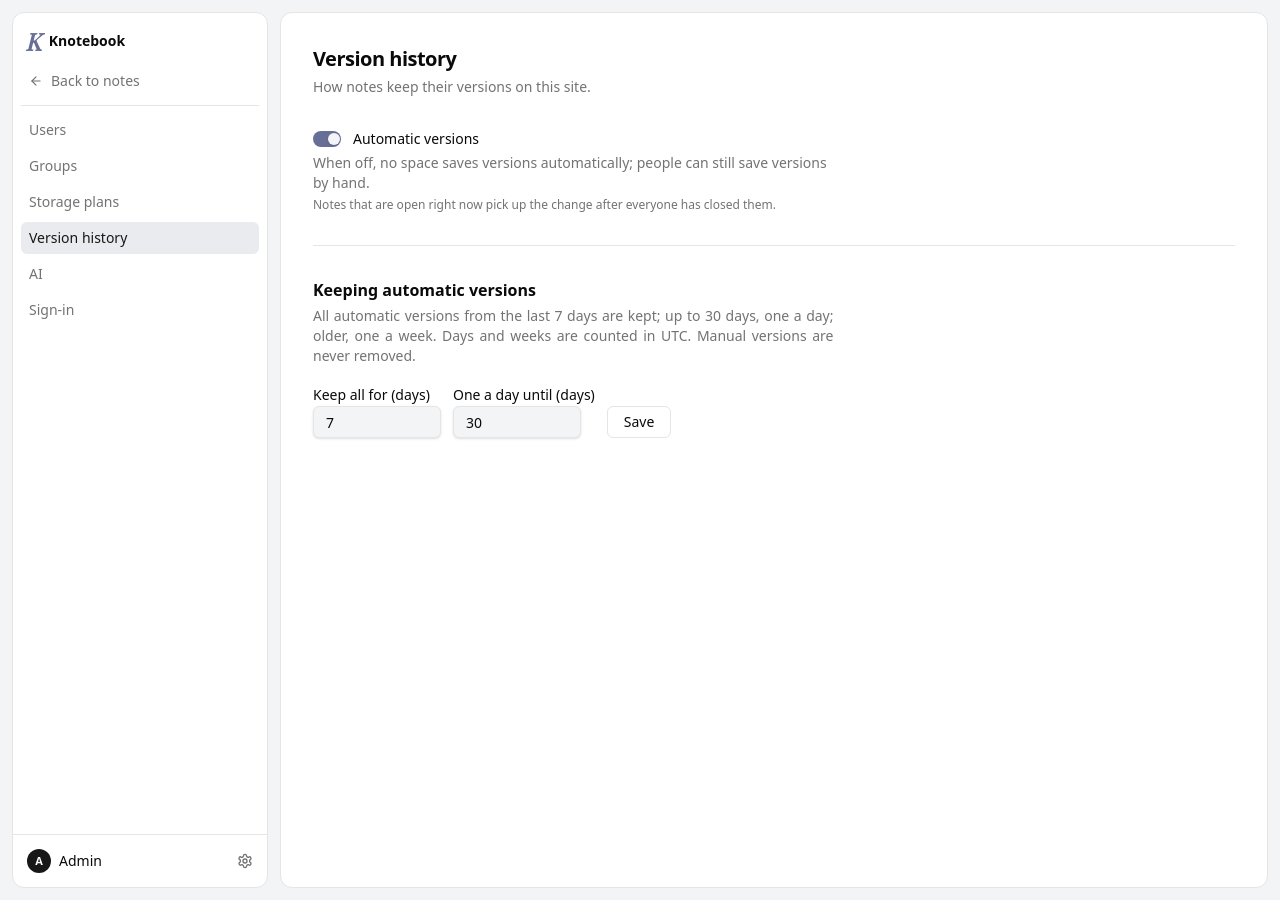
it: SettingsVersionsSection（/admin/versions，spec §6.7、§8.5） › 天數合法（F = D 也可）→ PATCH { keepAllDays, dailyUntilDays }、toast
Replace the text in the field labelled "Keep all for (days)" with "14": (377, 422) [313,406,441,438]
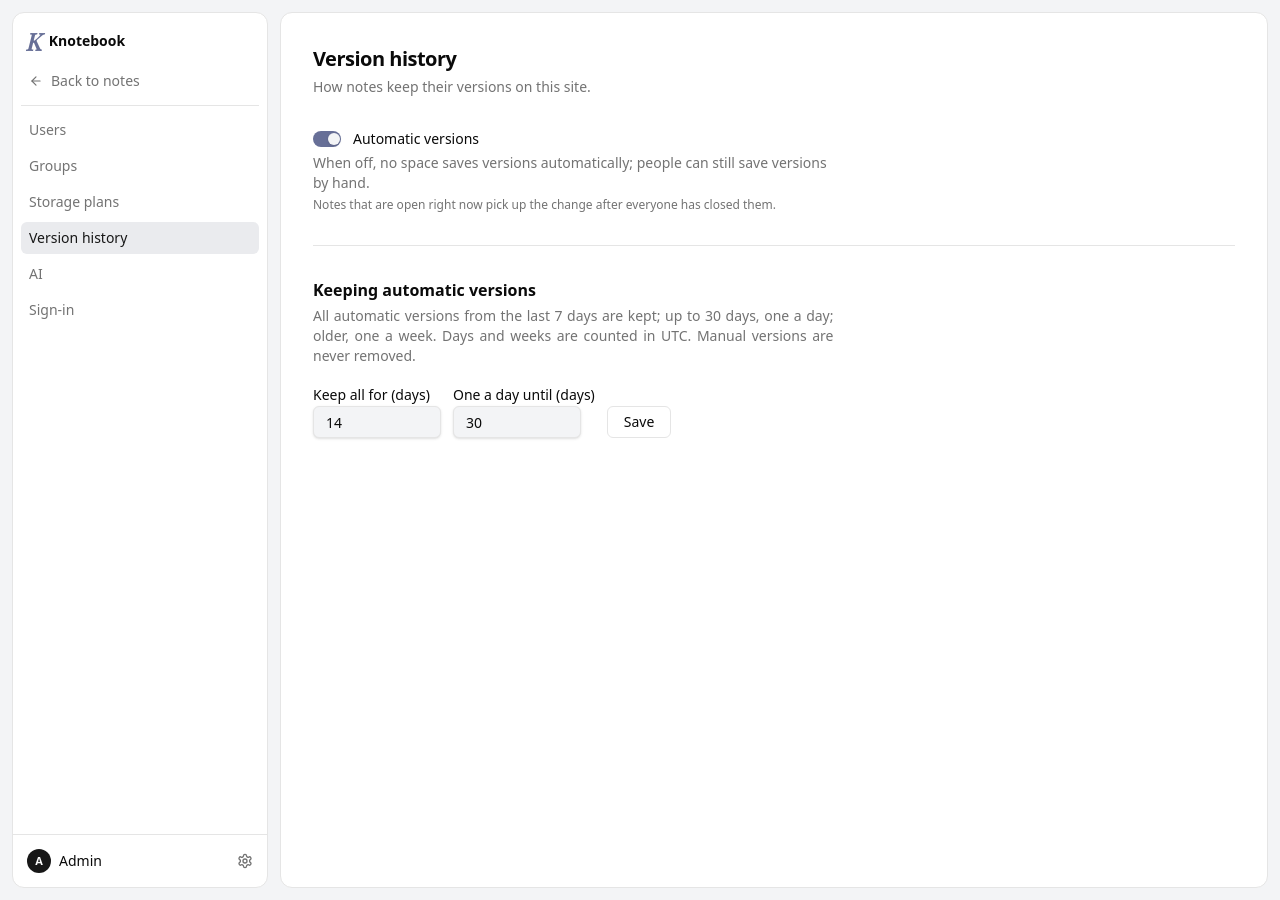
Replace the text in the field labelled "One a day until (days)" with "14": (517, 422) [453,406,581,438]
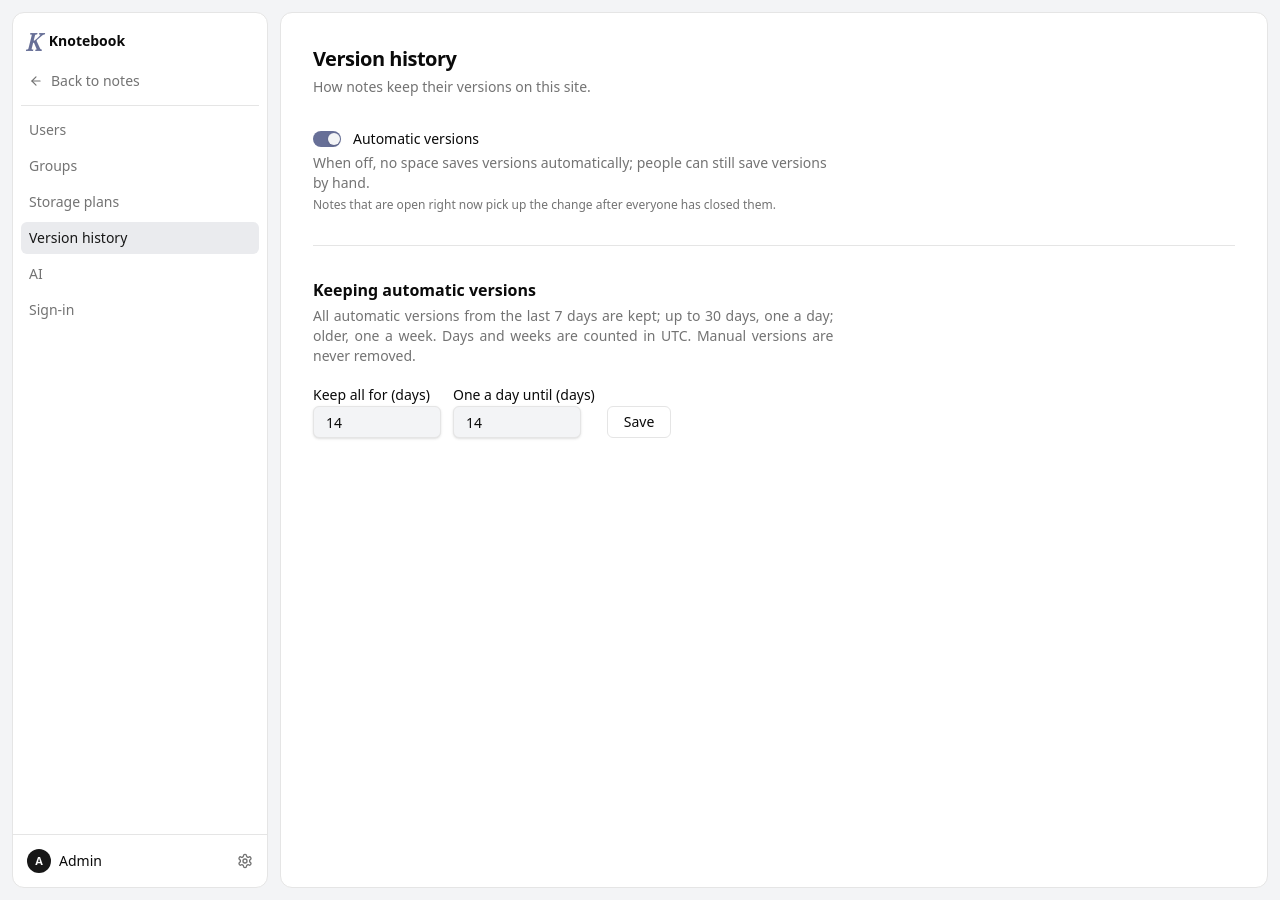
Click the button "Save": (639, 422) [607,406,671,438]
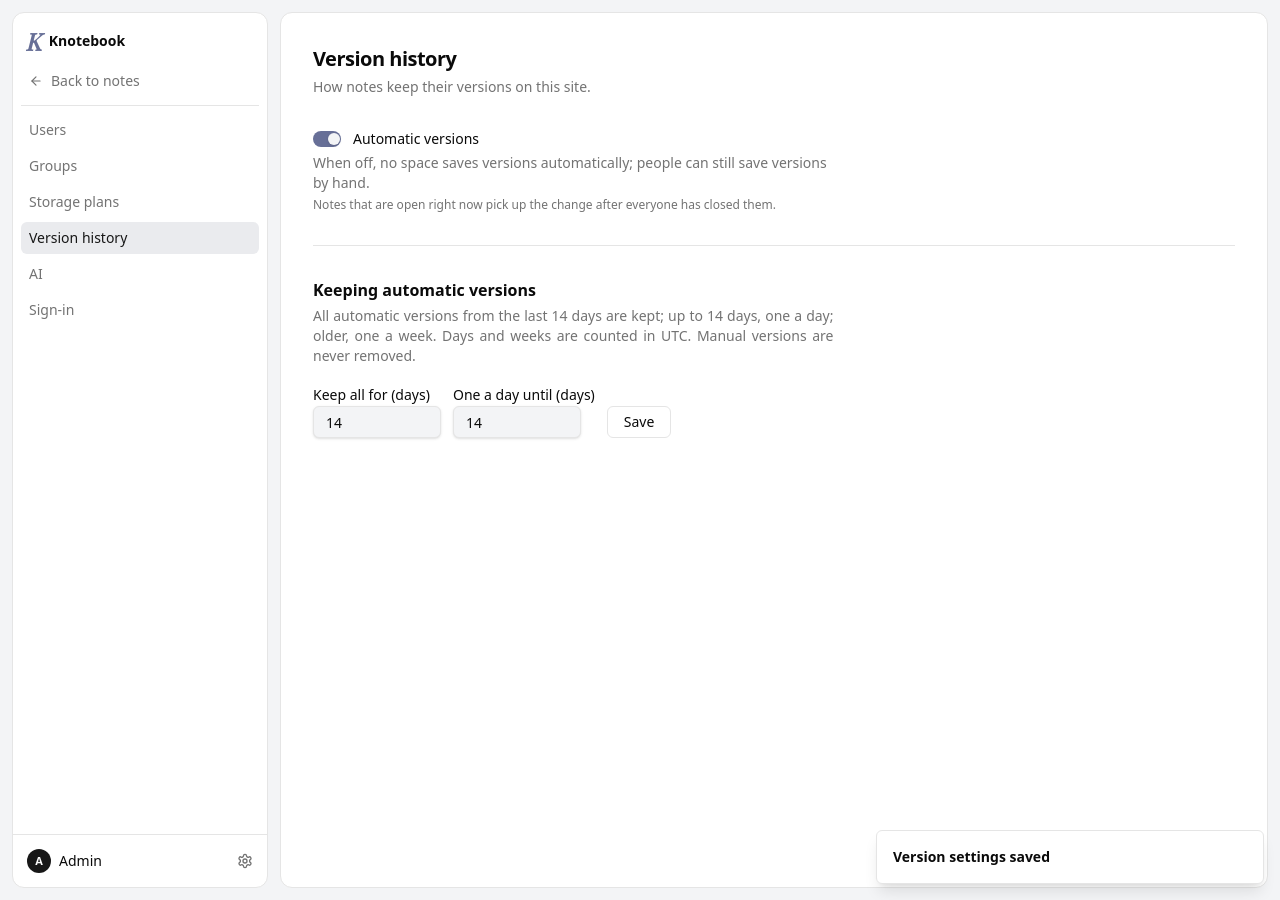
Result: the text "Version settings saved" is shown at [893,847,1050,867]
